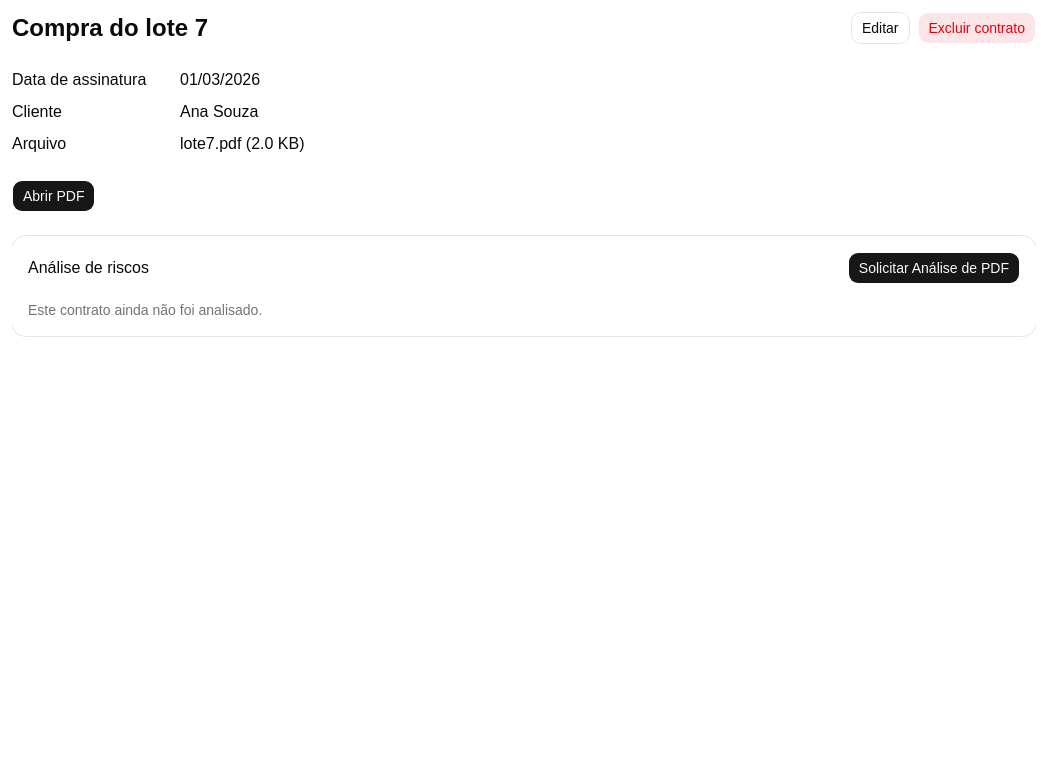
Test case: painel de análise › mostra resumo, riscos com gravidade, cláusulas e data após o sucesso
Step 1. Click the button "Solicitar Análise de PDF" → coordinates (934, 268), box [848,252,1020,284]
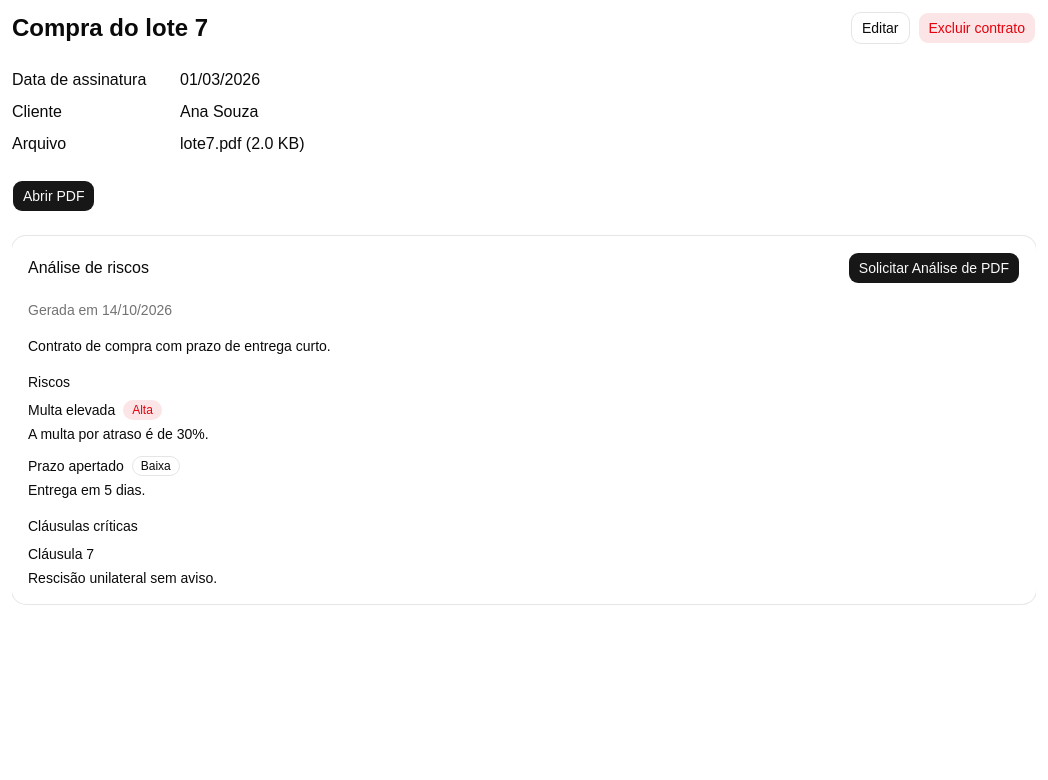
Result: the text "Contrato de compra com prazo de entrega curto." is shown at [28,338,331,354]
Result: the text "Multa elevada" is shown at [28,400,115,420]
Result: the text "A multa por atraso é de 30%." is shown at [28,426,209,442]
